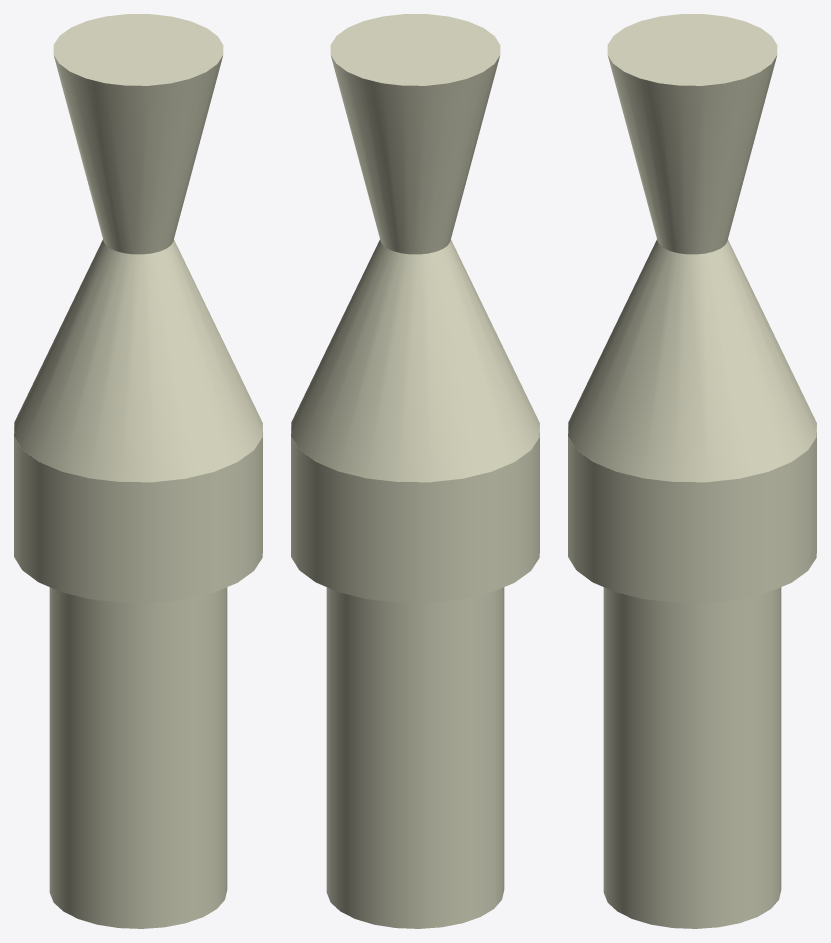
Rendered from CylinderCone.dae.
3 views of the same model, side by side, from view 1: azimuth 30°, elevation 25°; view 2: azimuth 150°, elevation 25°; view 3: azimuth 270°, elevation 25° (orthographic).
Visible parts, largest first — view 1: SketchUp (×3); view 2: SketchUp (×3); view 3: SketchUp (×3).
Part boxes in pixels (x1,y1,x2,y2): SketchUp (×3): [14, 14, 262, 928]; SketchUp (×3): [291, 14, 539, 928]; SketchUp (×3): [568, 14, 816, 928].
Size of the model in its own units: 50.77 by 50.77 by 189.
